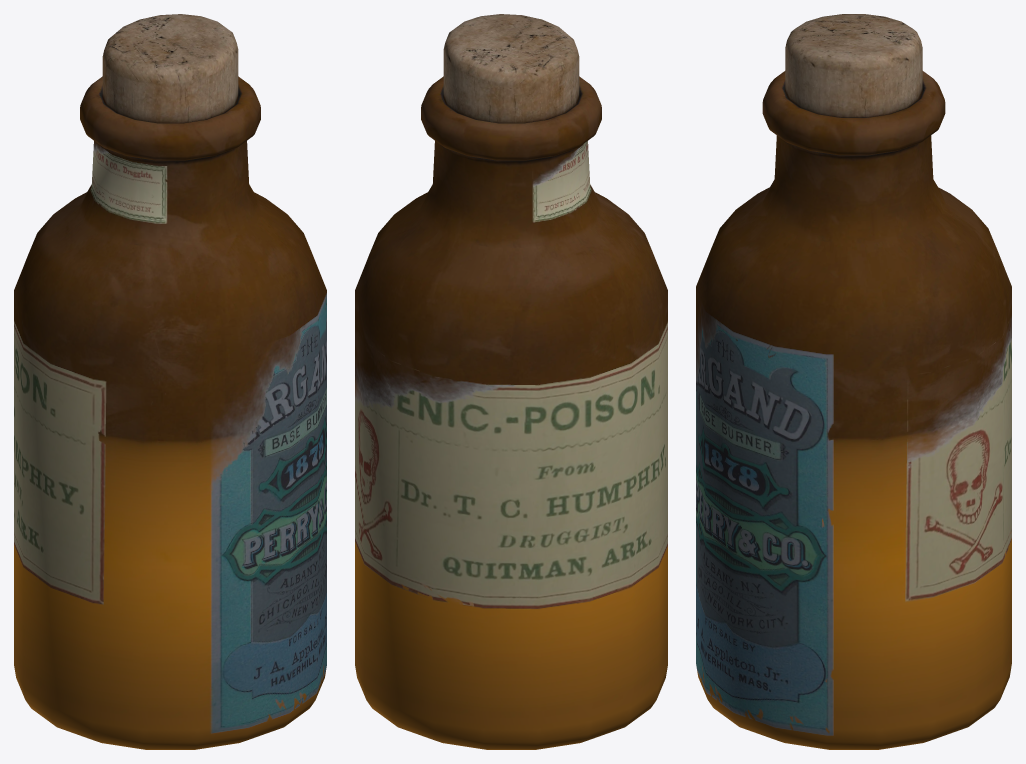
File: mercury-transport-bottle.glb
3 renders of one model, left to right at view 1: azimuth 30°, elevation 25°; view 2: azimuth 150°, elevation 25°; view 3: azimuth 270°, elevation 25°, orthographic.
Visible parts, largest first — view 1: Glass Bottle; view 2: Glass Bottle; view 3: Glass Bottle.
Boxes of the visible parts, x1,y1,x2,y2 form: Glass Bottle: [14, 14, 326, 749]; Glass Bottle: [355, 14, 667, 749]; Glass Bottle: [696, 14, 1011, 749].
Size of the model in its own units: 0.0689 by 0.1621 by 0.07.
Materials: 1 (1 with a texture image).
